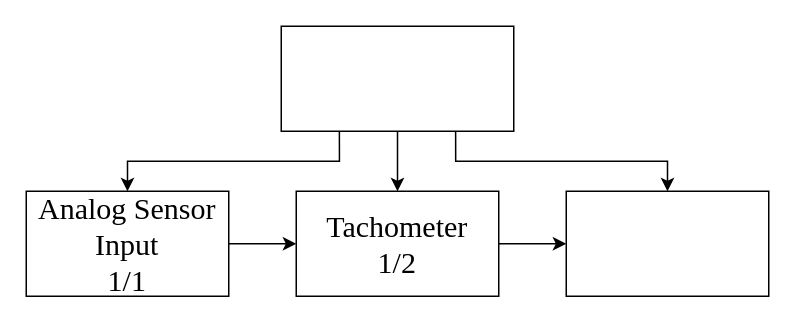
Some shapes in this 795 by 324 pixel diagram are drawn without their labels. Each missing label, with the centre of its shape:
"Gauge Driver 2/2" belongs at [667,243].
"Power Supply 1/1" belongs at [397,78].
